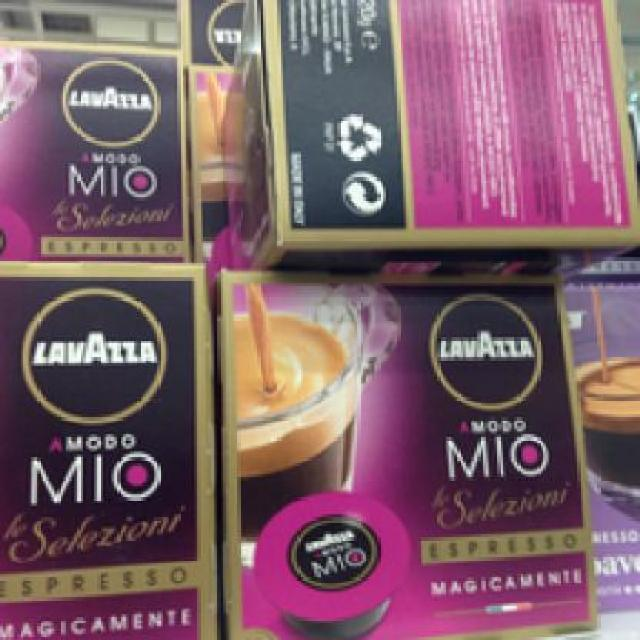Coffee: (220, 265, 597, 638), (222, 0, 638, 266), (0, 259, 212, 638), (0, 34, 189, 257)
